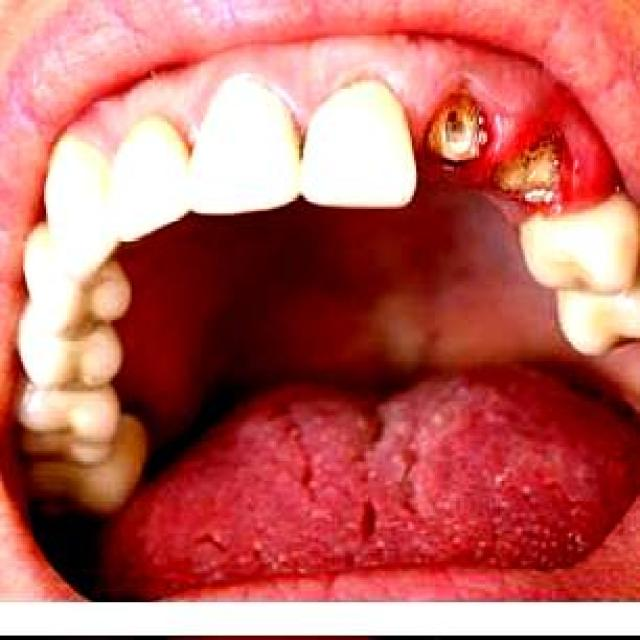caries: (423, 79, 500, 169), (497, 135, 574, 210)
